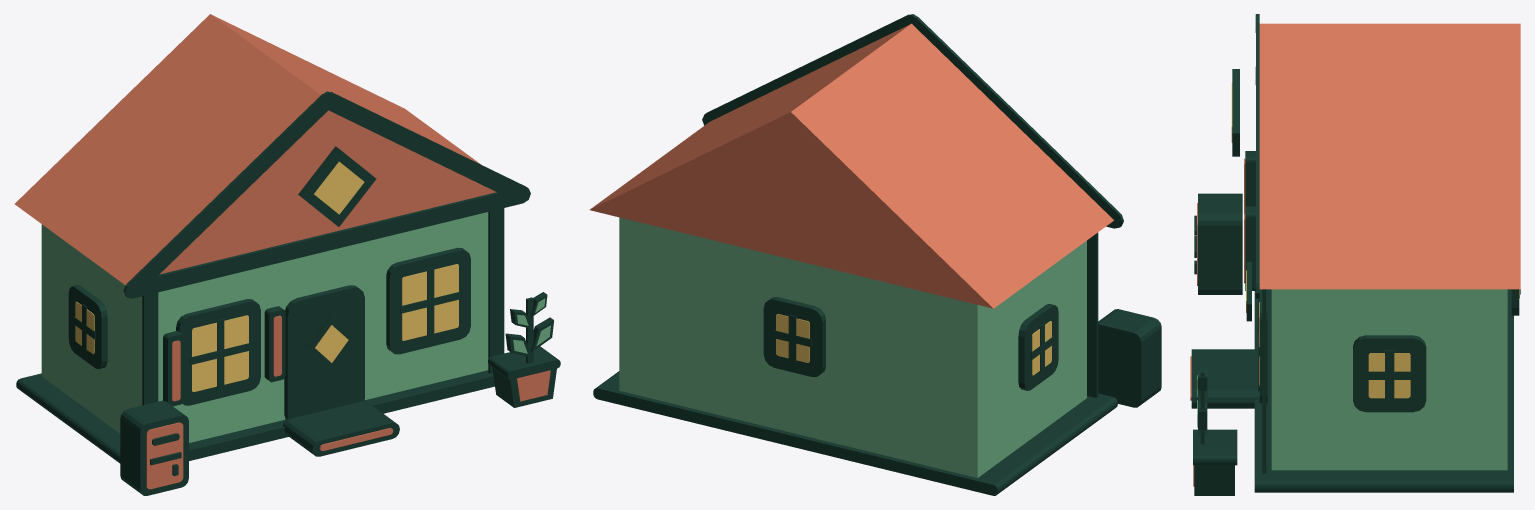
The picture shows the model from 3 angles, left to right: view 1: azimuth 30°, elevation 25°; view 2: azimuth 150°, elevation 25°; view 3: azimuth 270°, elevation 25°; orthographic projection. The views are drawn at different scales.
Parts seen in each view (by area): view 1: Rent Free house; view 2: Rent Free house; view 3: Rent Free house.
Part boxes in pixels (<box>): Rent Free house: <box>14,14,560,495</box>; Rent Free house: <box>590,14,1161,495</box>; Rent Free house: <box>1190,14,1520,495</box>.
Size of the model in its own units: 1.18 by 0.8986 by 0.72.
